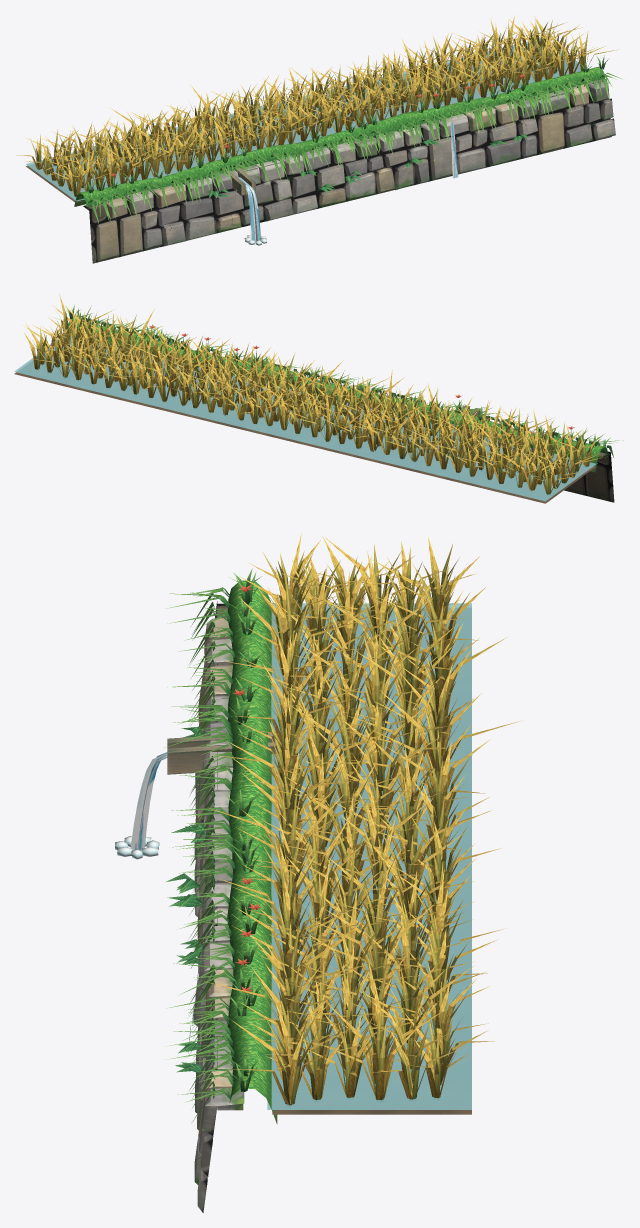
Rendered from terrace_straight_ripe.glb.
3 renders of one model, top to bottom at view 1: azimuth 30°, elevation 25°; view 2: azimuth 150°, elevation 25°; view 3: azimuth 270°, elevation 25°, orthographic. The views are drawn at different scales.
Visible parts, largest first — view 1: terrace_straight_ripe_plants, terrace_straight_ripe_wall, terrace_straight_ripe_dike, terrace_straight_ripe_water, terrace_straight_ripe_spout_fall, terrace_straight_ripe_spout; view 2: terrace_straight_ripe_plants, terrace_straight_ripe_water, terrace_straight_ripe_dike, terrace_straight_ripe_wall; view 3: terrace_straight_ripe_plants, terrace_straight_ripe_water, terrace_straight_ripe_dike, terrace_straight_ripe_wall, terrace_straight_ripe_spout, terrace_straight_ripe_spout_fall.
Part boxes in pixels (x1,y1,x2,y2): terrace_straight_ripe_plants: [16, 15, 622, 224]; terrace_straight_ripe_wall: [83, 79, 615, 263]; terrace_straight_ripe_dike: [26, 44, 605, 206]; terrace_straight_ripe_water: [26, 38, 587, 201]; terrace_straight_ripe_spout_fall: [238, 177, 260, 241]; terrace_straight_ripe_spout: [216, 160, 255, 195]; terrace_straight_ripe_plants: [23, 294, 623, 494]; terrace_straight_ripe_water: [14, 336, 597, 501]; terrace_straight_ripe_dike: [14, 318, 607, 503]; terrace_straight_ripe_wall: [91, 322, 614, 502]; terrace_straight_ripe_plants: [163, 533, 520, 1121]; terrace_straight_ripe_water: [267, 603, 471, 1109]; terrace_straight_ripe_dike: [227, 580, 471, 1124]; terrace_straight_ripe_wall: [193, 601, 244, 1212]; terrace_straight_ripe_spout: [167, 731, 278, 774]; terrace_straight_ripe_spout_fall: [130, 752, 167, 850].
Bounding box in the file's own units: 12.94 × 1.95 × 4.1.
6 materials, 5 textured.
